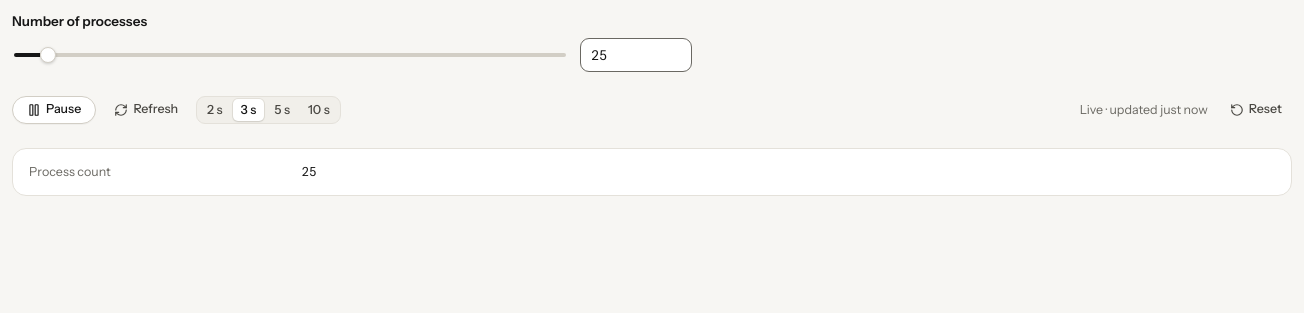
system dashboard validation › limit 0 shows the error and marks the last table stale
Expected: the text "Live · updated just now" is shown, top-left (1080, 100), bottom-right (1208, 119)
Replace the text in the number field labelled "Number of processes" with "0": (636, 55) top-left (580, 38), bottom-right (692, 72)
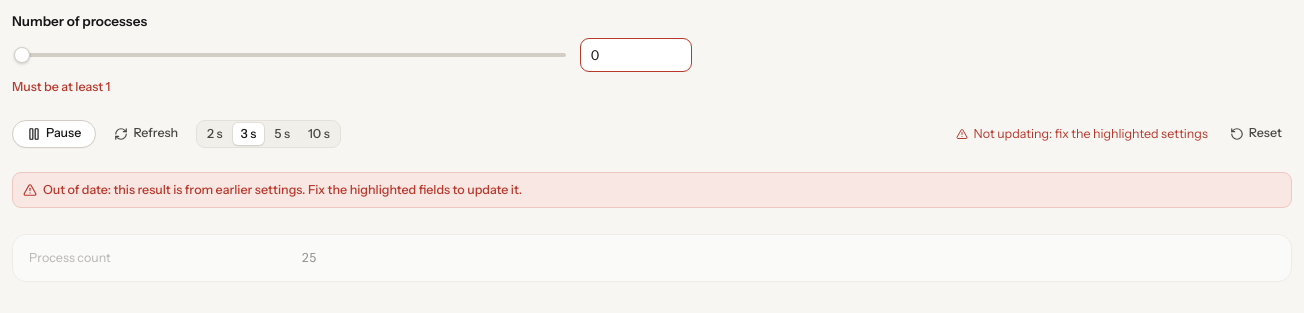
Result: the text "Must be at least 1" is shown at top-left (12, 79), bottom-right (110, 94)
Result: the text "Not updating: fix the highlighted settings" is shown at top-left (956, 125), bottom-right (1208, 143)
Result: the text "Live · updated just now" is gone
Replace the text in the number field labelled "Number of processes" with "10": (636, 55) top-left (580, 38), bottom-right (692, 72)
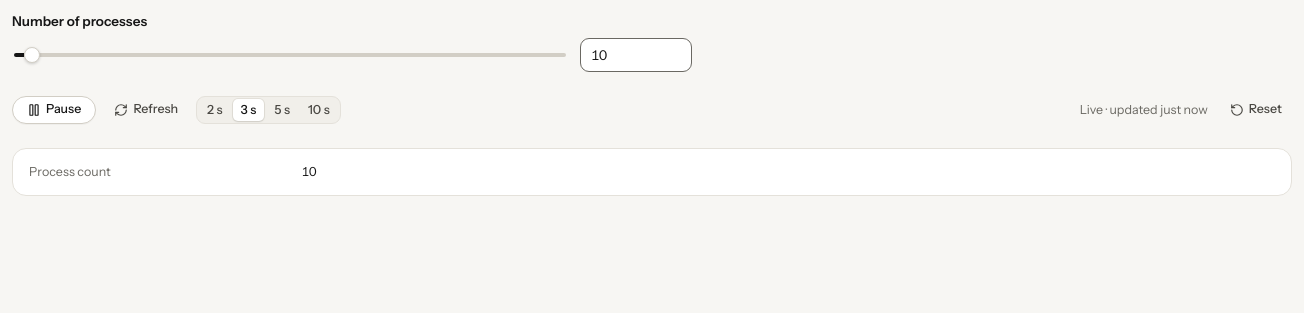
Result: the text "Out of date" is gone
Result: the text "Live · updated just now" is shown at top-left (1080, 100), bottom-right (1208, 119)
